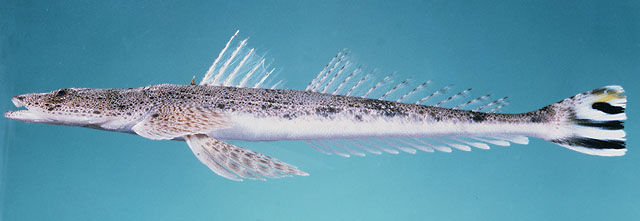fish: (4, 29, 628, 182)
